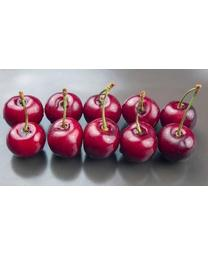cherry: (5, 121, 46, 157), (122, 121, 157, 161), (83, 116, 117, 157), (158, 123, 196, 159), (47, 118, 81, 157), (3, 94, 44, 125), (122, 94, 158, 127), (160, 100, 197, 132), (84, 94, 121, 125), (45, 92, 83, 122)
